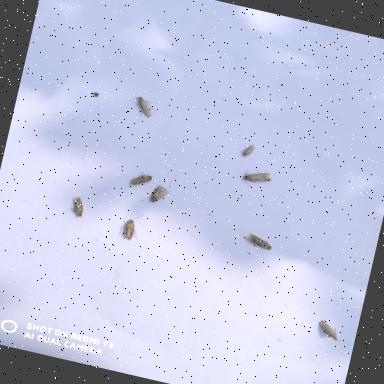pbw: (116, 207, 148, 245), (237, 165, 276, 195), (124, 91, 161, 122), (311, 316, 349, 346), (240, 229, 276, 253), (124, 168, 156, 194), (63, 193, 91, 222), (144, 181, 174, 208), (236, 140, 260, 164)
